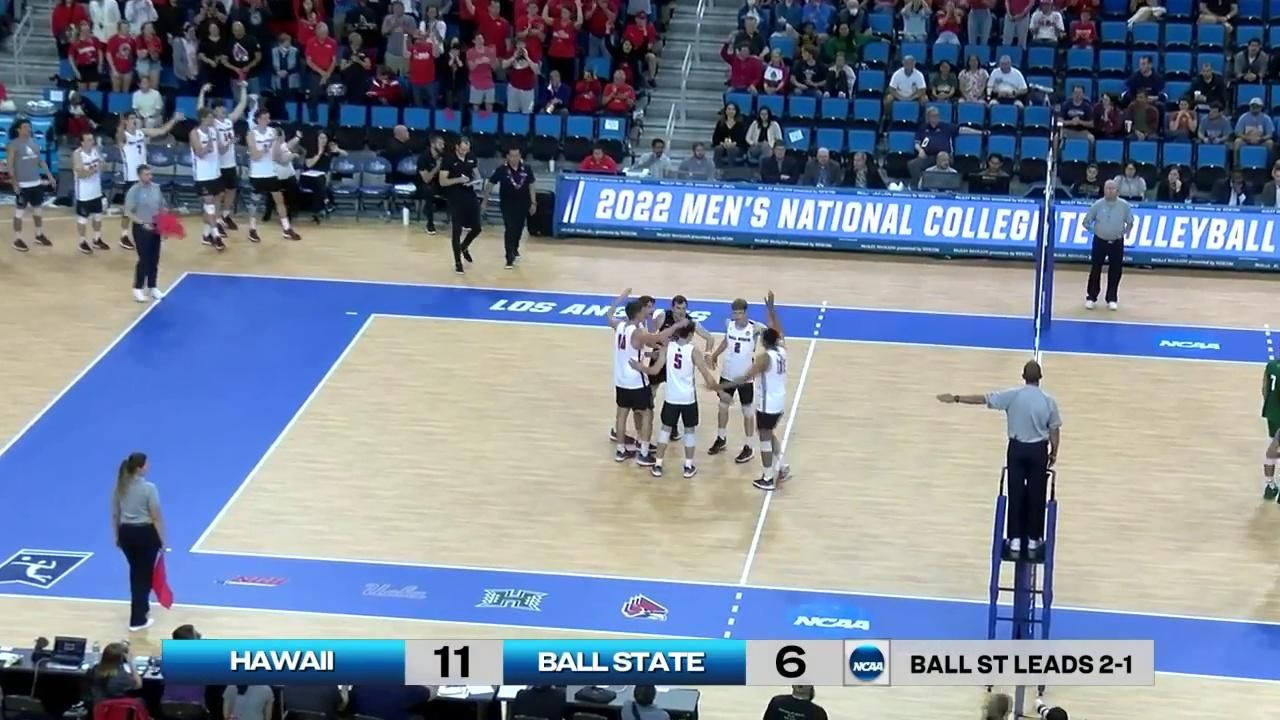player: (707, 301, 767, 460), (654, 320, 705, 479), (746, 328, 795, 490), (613, 300, 654, 468), (651, 296, 697, 439), (615, 294, 656, 449), (1261, 349, 1280, 503)
refree: (979, 363, 1059, 562), (110, 454, 170, 629), (119, 165, 179, 302), (1086, 180, 1131, 311)
